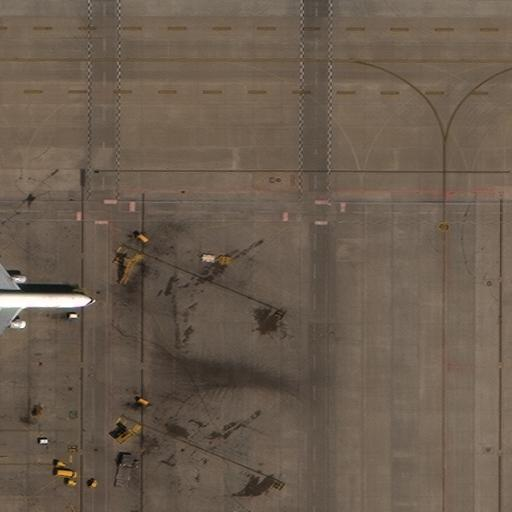Large Civil Transport: (0, 245, 96, 353)
